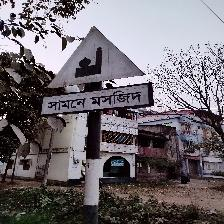Mosque in front: (42, 26, 151, 119)
